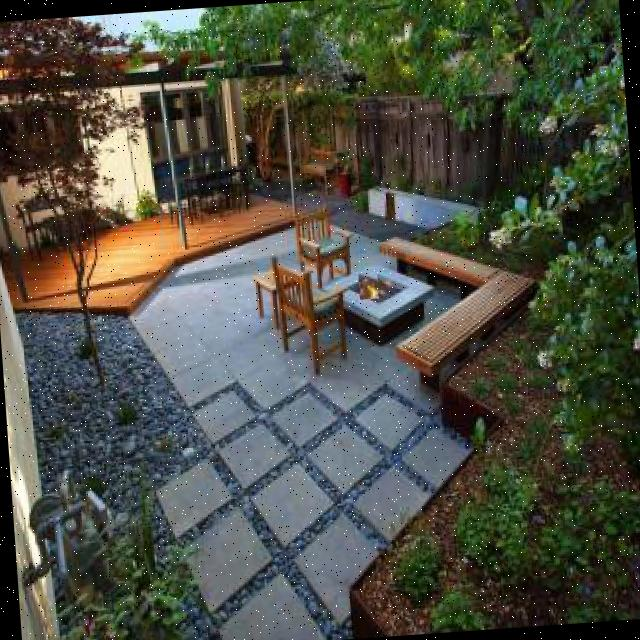fire: (358, 270, 378, 299)
